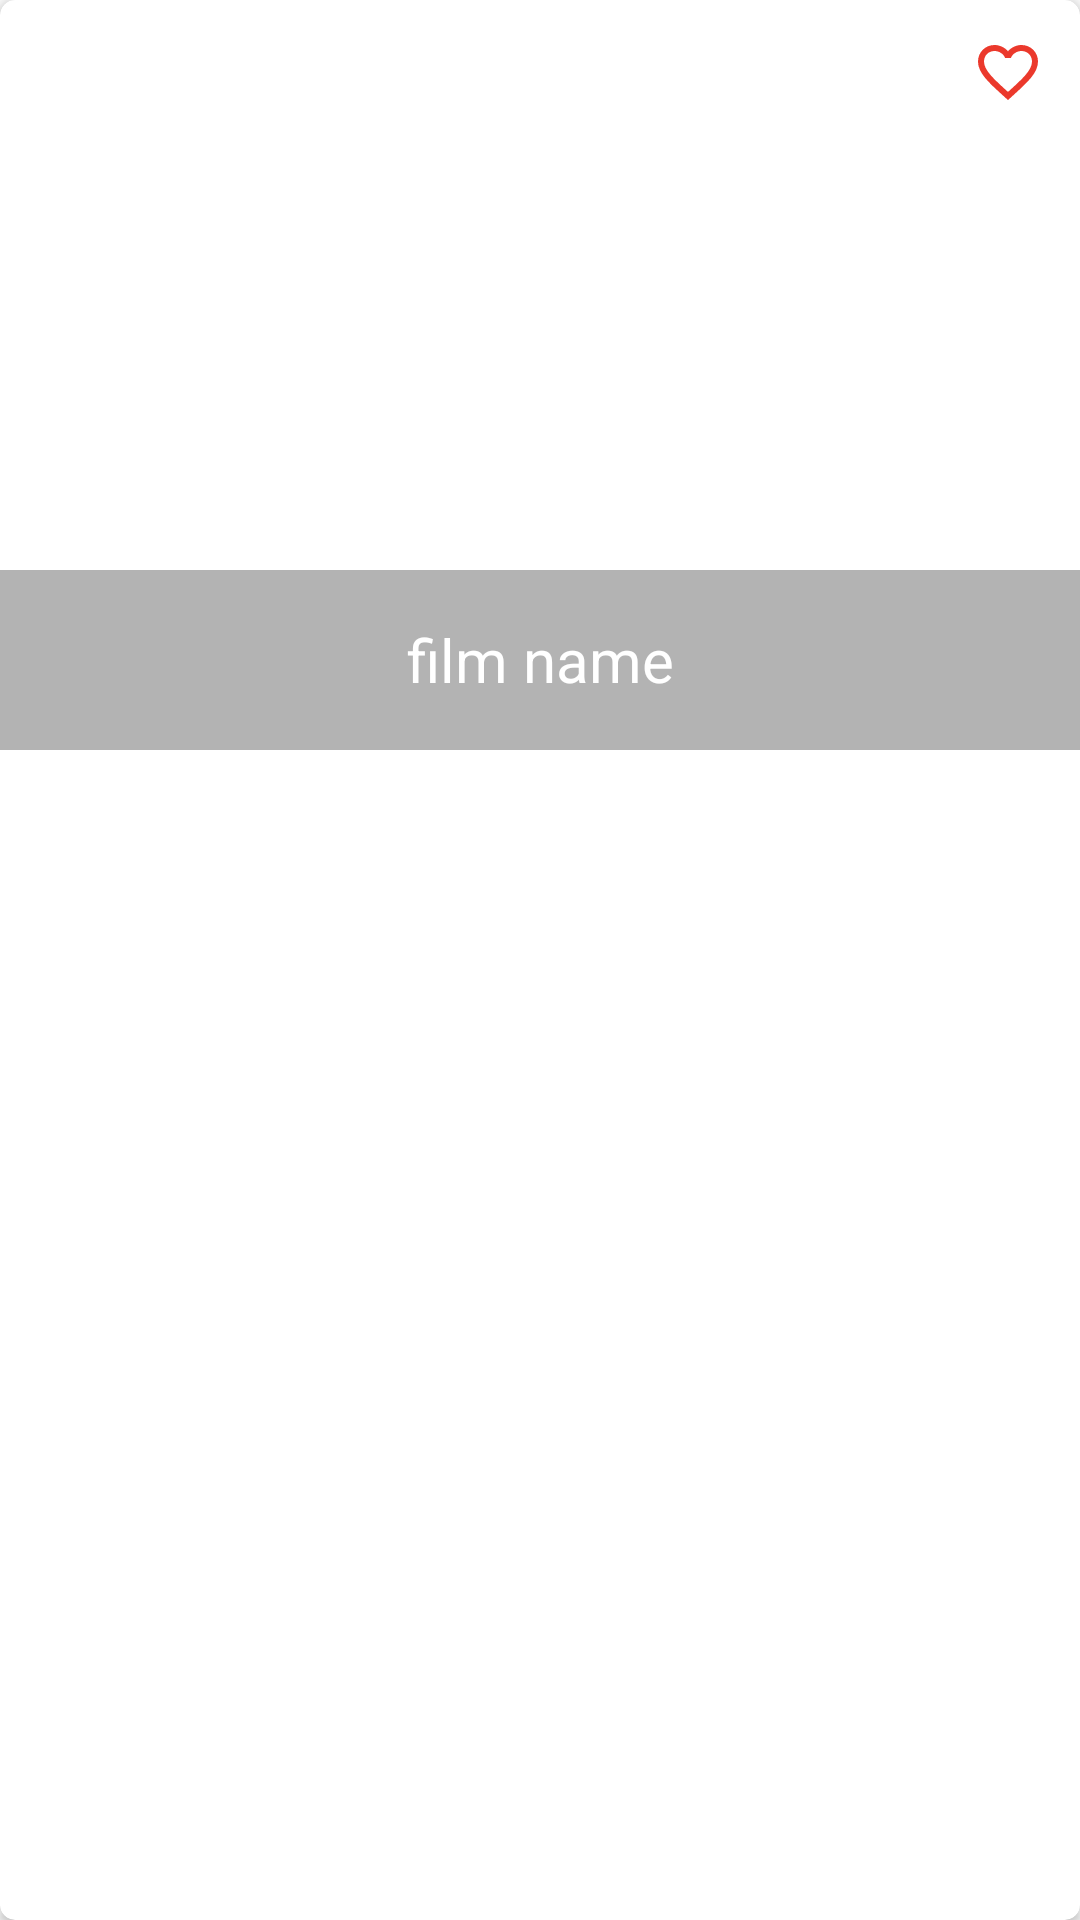

Where icons sit on this 1080 × 1920 app screen, as (x1, y1, x2, y2):
favorite: (978, 1, 1080, 100)
